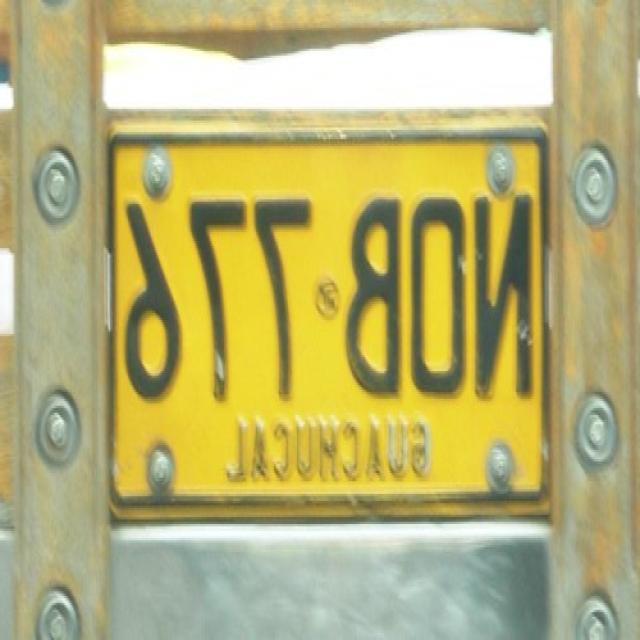placas: (112, 178, 541, 406)
